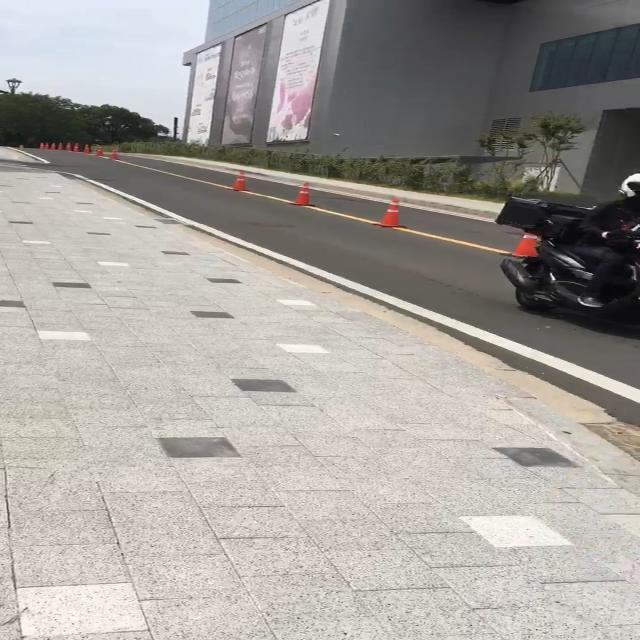obstacle: (373, 194, 409, 232), (286, 177, 320, 211), (221, 168, 252, 197)
road: (19, 148, 640, 456)
sidewalk: (0, 171, 640, 640)
